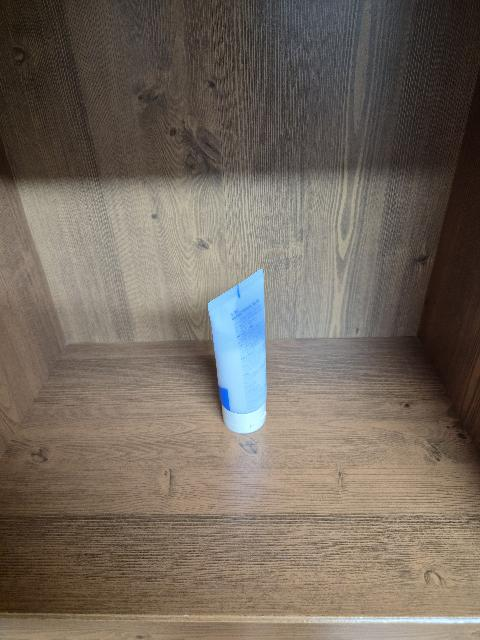handcream: (208, 268, 267, 434)
